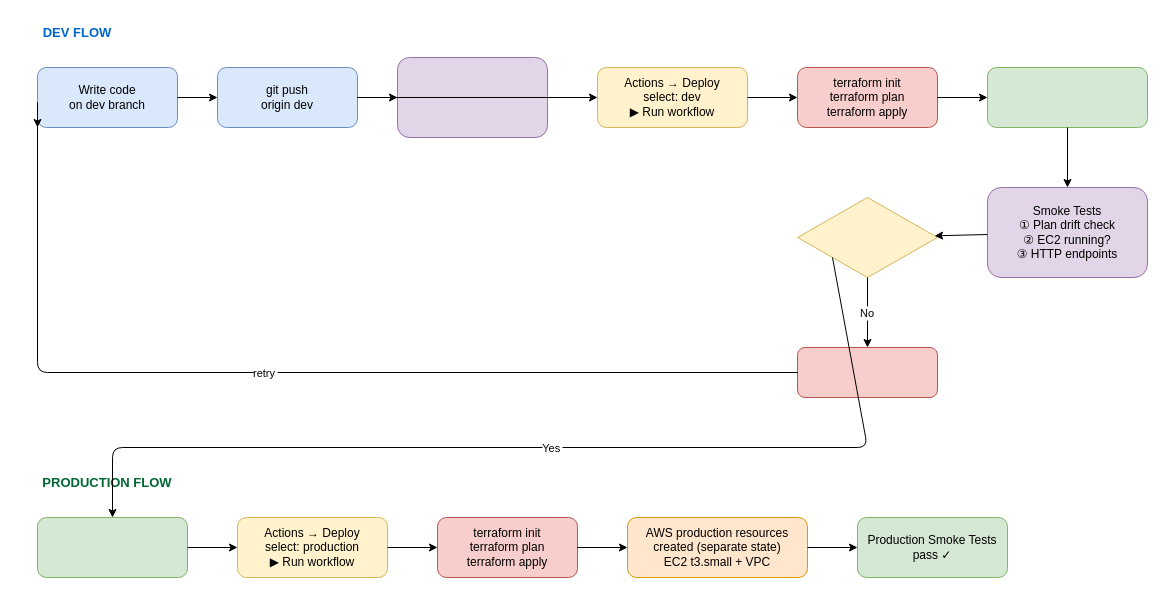
The diagram is 1165 pixels wide and 595 high, and some of its shapes have lost their labels. Each missing label, with the box of its shape:
AWS dev resources created in eu-north-1 EC2 + VPC + Subnet: (986, 66, 1148, 128)
Docs workflow auto-runs → documentation.md updated: (396, 56, 548, 138)
Fix code, push again: (796, 346, 938, 398)
Merge dev → main (PR or direct): (36, 516, 188, 578)
Tests pass?: (796, 196, 938, 278)
